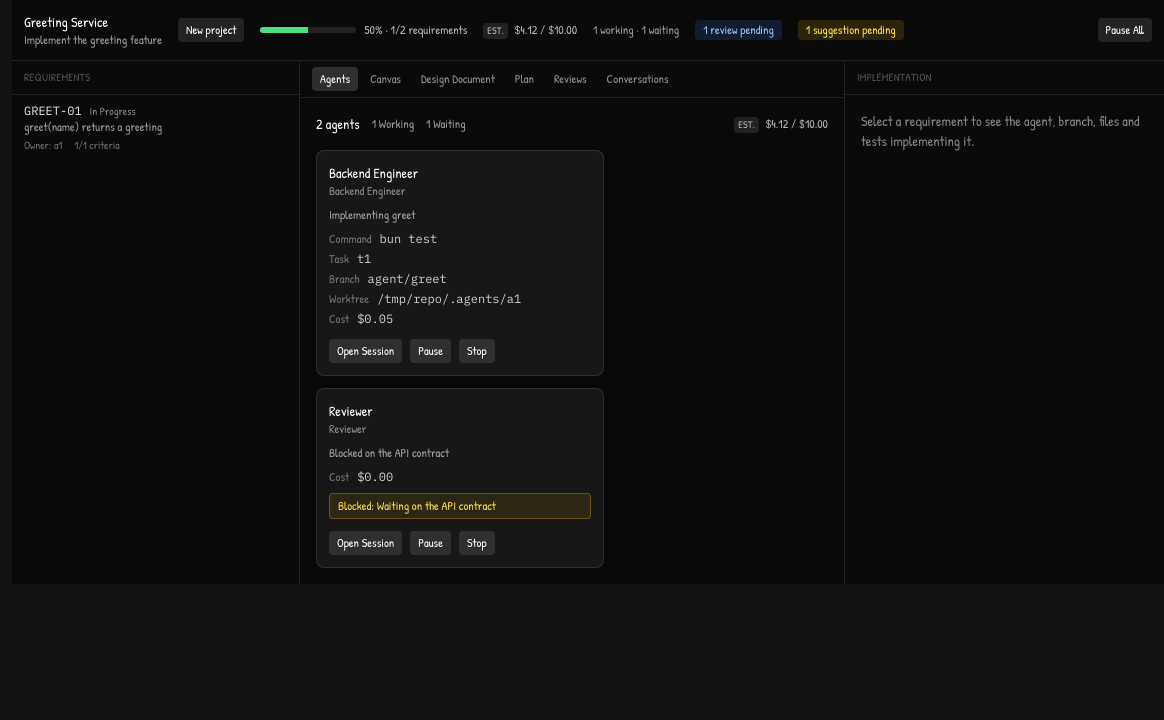
it: §22.17: every checklist row is reachable in the assembled app › pending design suggestions render with all four actions
Expected: the text with test id "project-name" reads "Greeting Service", top-left (24, 12), bottom-right (108, 31)
Click the button with test id "tab-reviews" at coordinates (570, 79), box top-left (546, 67), bottom-right (595, 91)
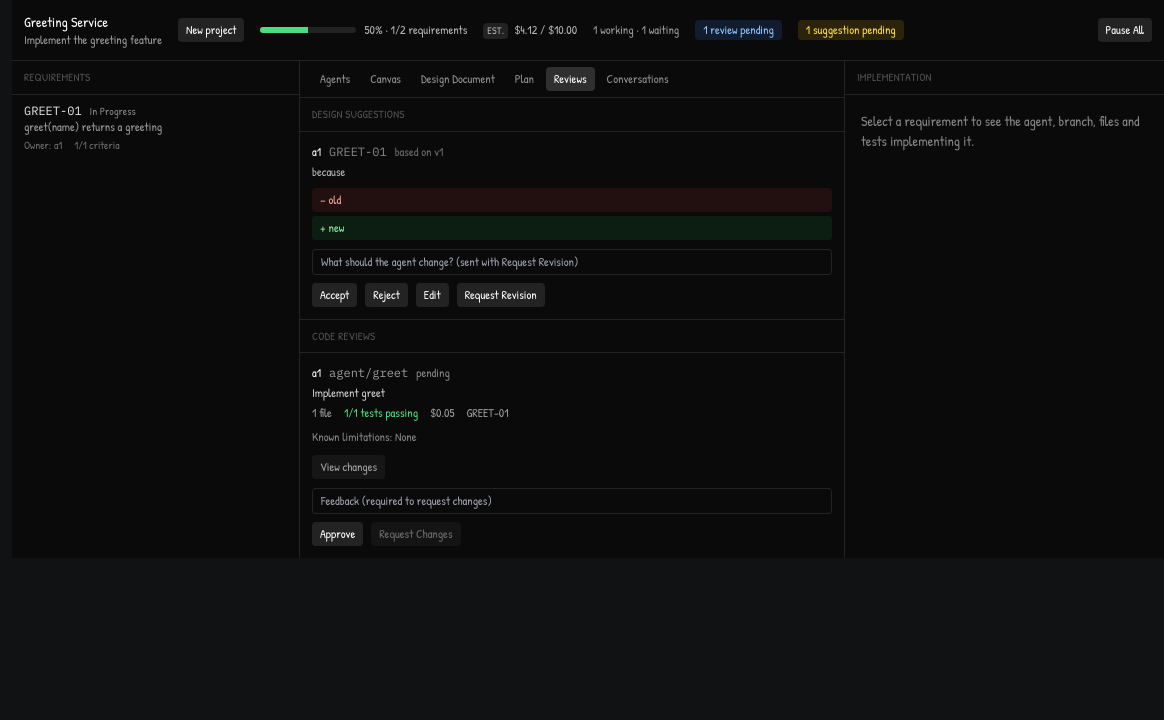
Now the list with test id "suggestion-queue" is shown, box top-left (300, 132), bottom-right (844, 318)
Now the list with test id "suggestion-queue" shows "Accept", box top-left (312, 282), bottom-right (357, 306)
Now the list with test id "suggestion-queue" shows "Reject", box top-left (365, 282), bottom-right (408, 306)
